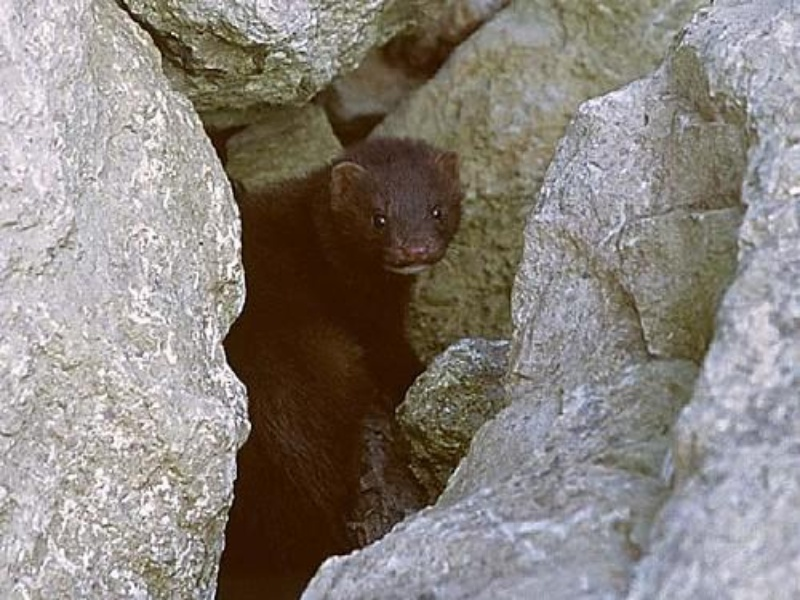minkish: (225, 131, 472, 443)
